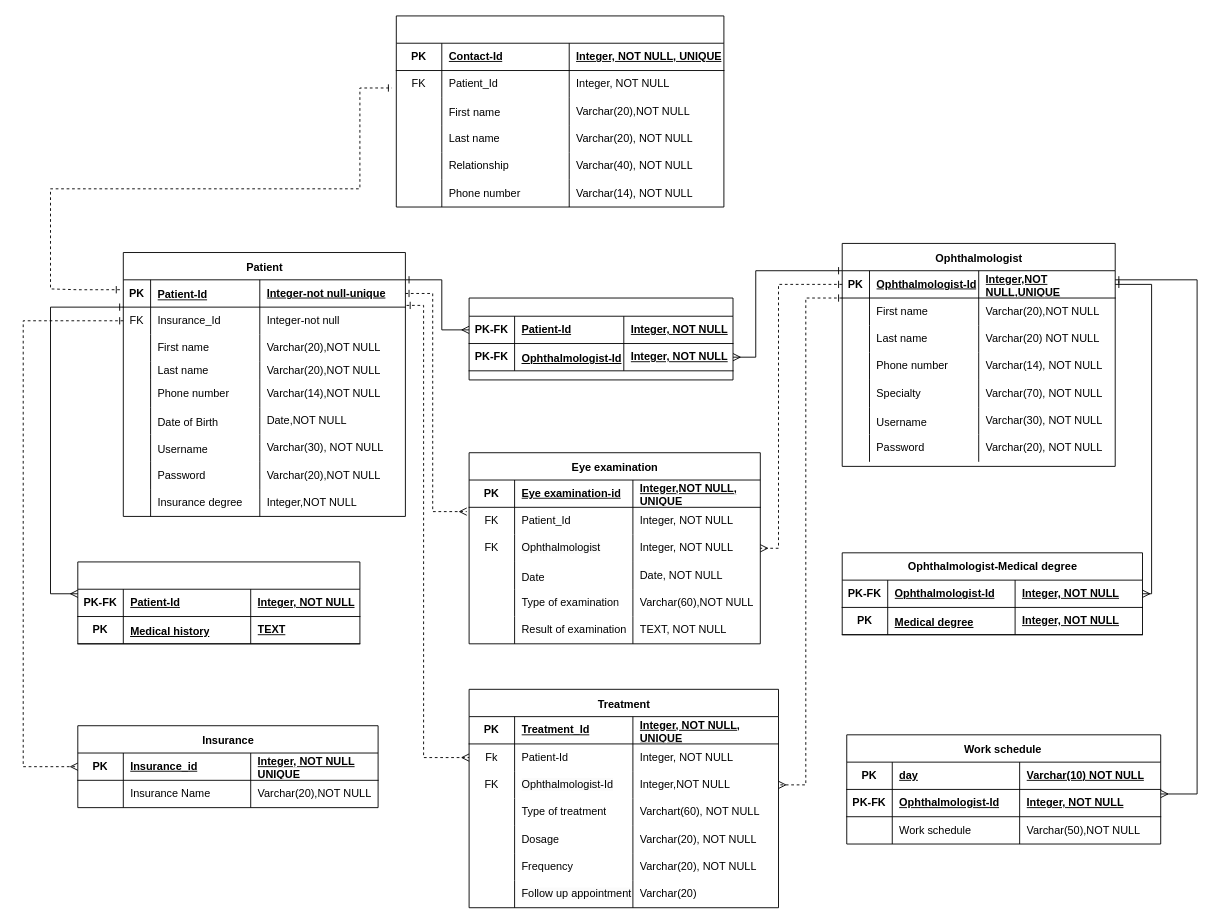
Some shapes in this 1221 by 924 pixel diagram are drawn without their labels. The box of each missing label's shape, as (x1, y1, x2, y2) in pixels:
Emergency Contact: (395, 15, 724, 207)
Ophthalmologist-Patient: (468, 297, 733, 380)
Patient_Medical history: (77, 561, 360, 644)
